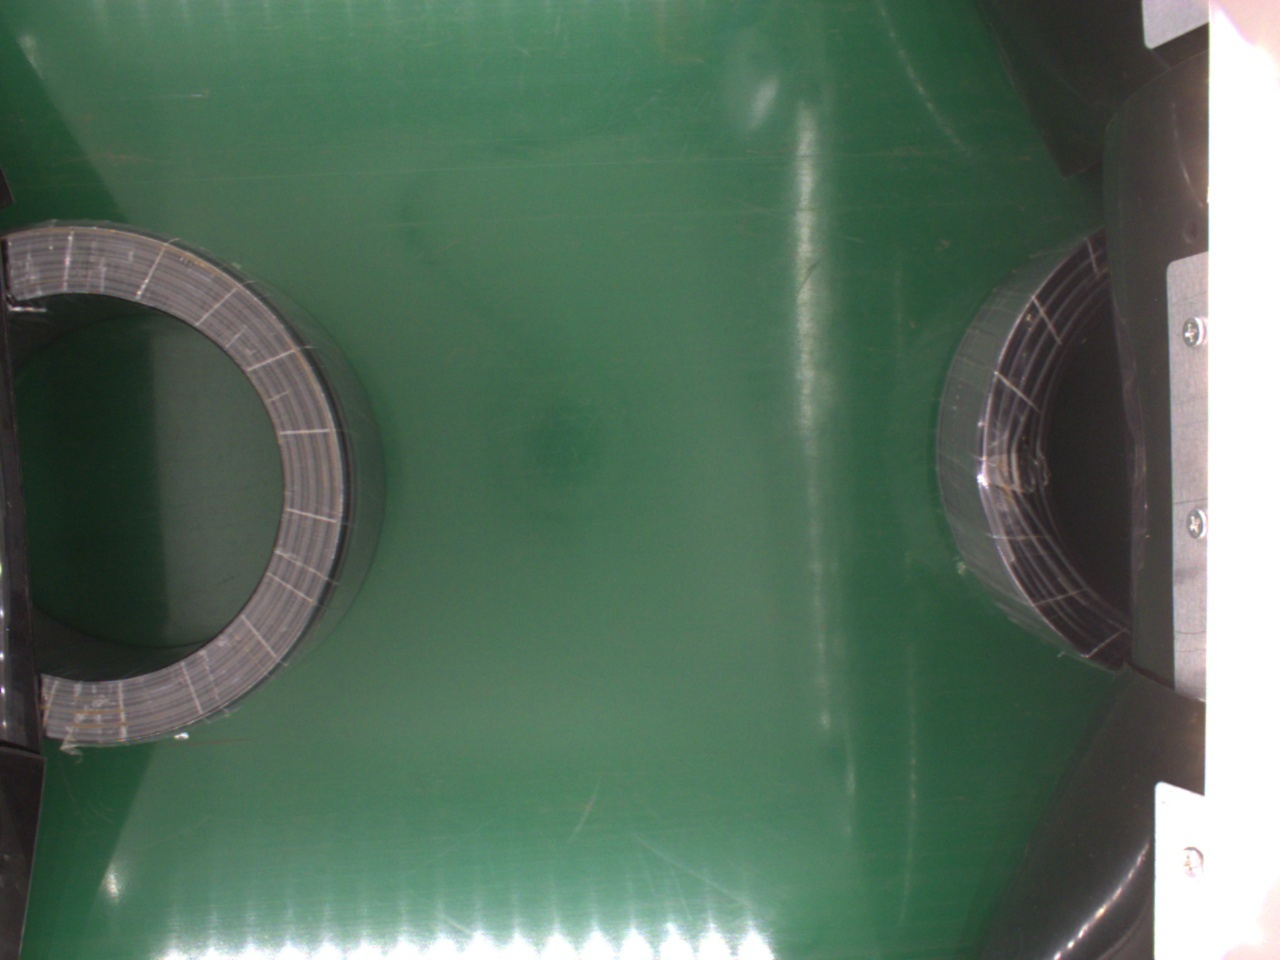black: (3, 218, 381, 746), (938, 228, 1138, 669)
